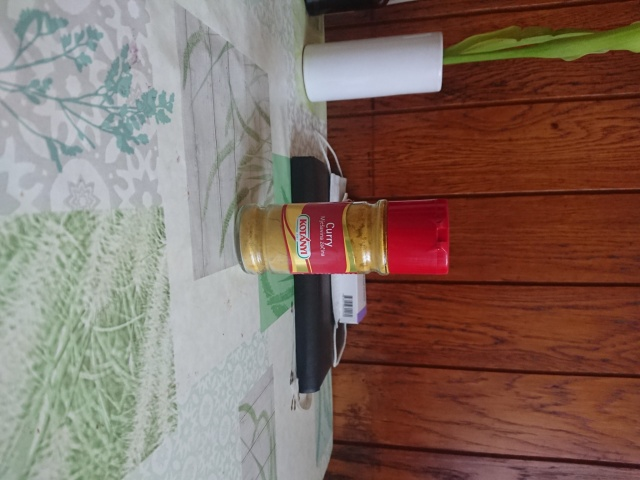Kotanyi Curry Spices Mix 70g: (232, 195, 452, 278)
